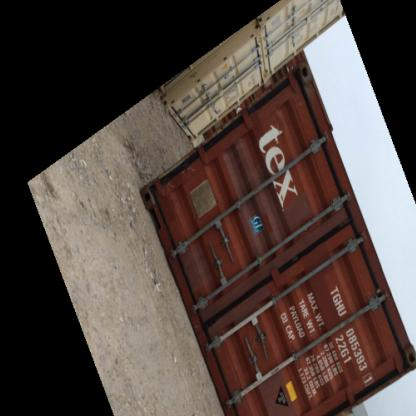Damage: (178, 245, 214, 288)
